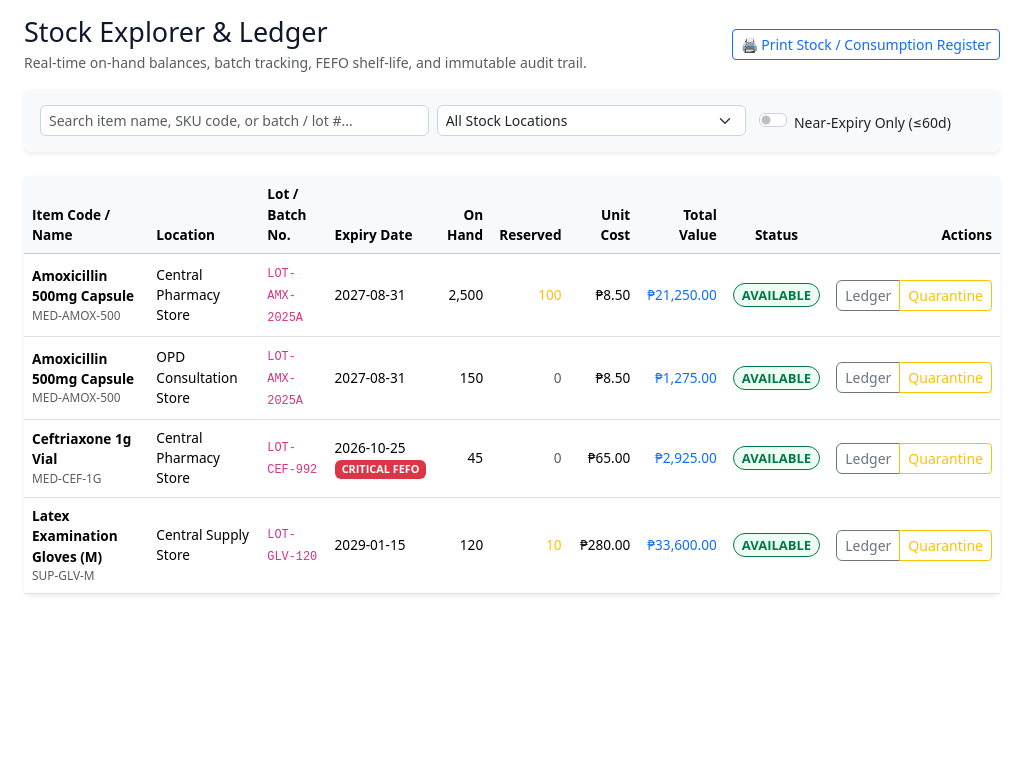
Test: StockExplorerPage (todo §4.2, SUP-T8) › opens ledger modal with immutable SHA-256 audit trail (AC-12)
Click the button with aria-label "View ledger" at {"x": 868, "y": 295}, box left=836, top=280, right=900, bottom=311
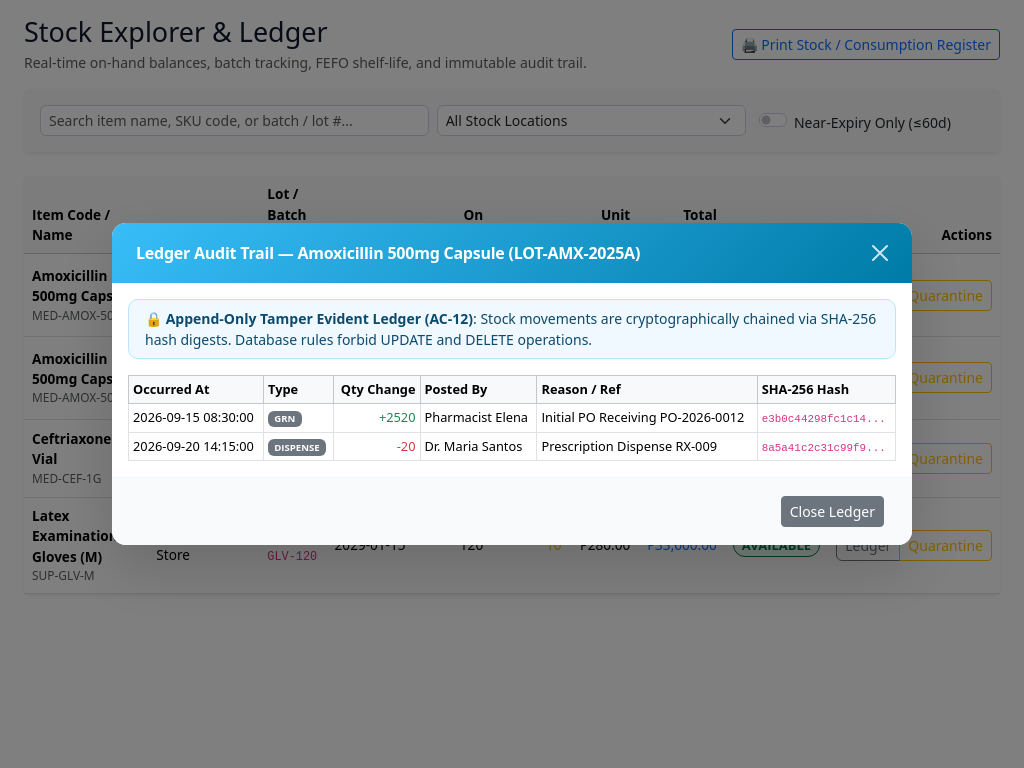
Expected: the text "Ledger Audit Trail" is shown, left=136, top=242, right=297, bottom=264
Expected: the text "Append-Only Tamper Evident Ledger (AC-12)" is shown, left=166, top=309, right=473, bottom=328
